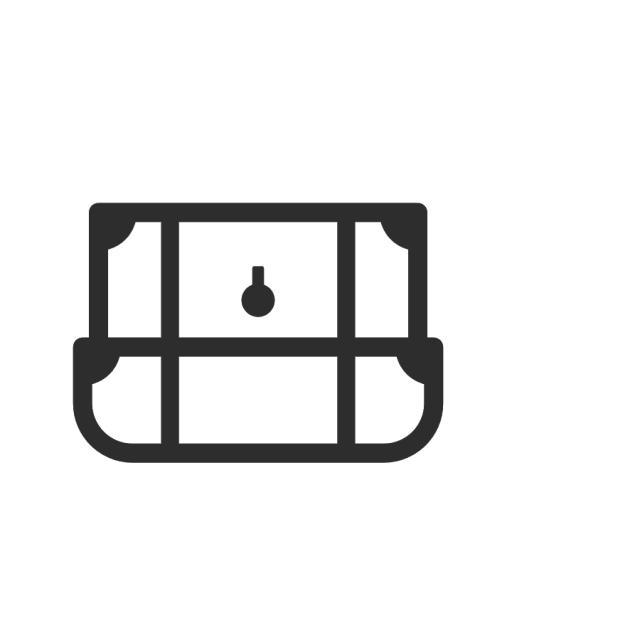treasure_box: (70, 198, 450, 473)
